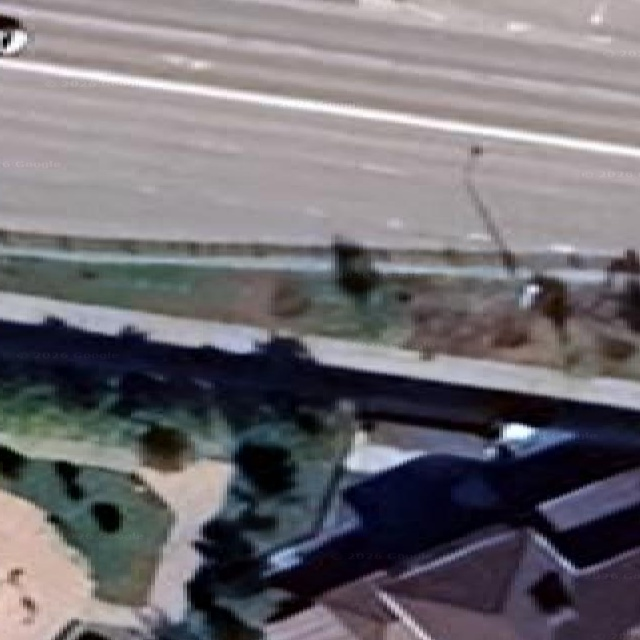car: (0, 13, 27, 55)
